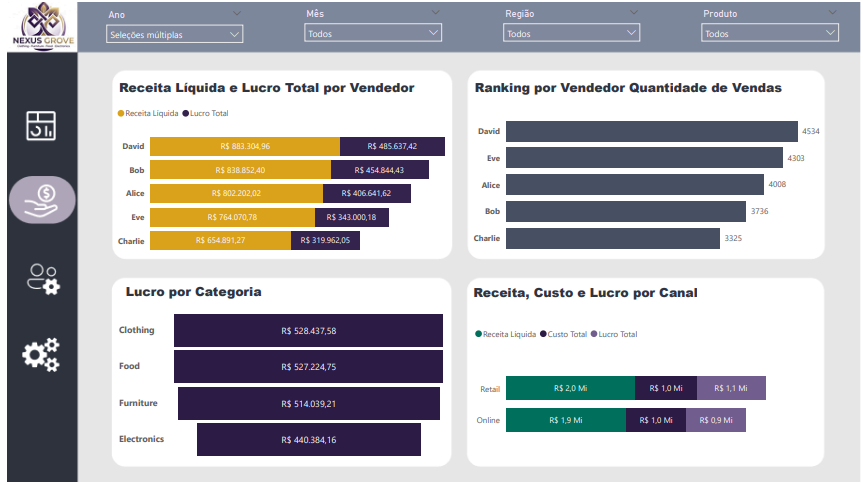

Layout of this report page (visuals, bound fields, positions):
{"tool":"powerbi","page":{"name":"Performance Comercial","canvas":[1280,720],"ordinal":1},"visuals":[{"type":"barChart","fields":{"Category":["vendas.Sales_Rep"],"Y":["Medidas.02 Receita Líquida","Medidas.04 Lucro Total"]},"box":[160,147.1,511.4,244.3],"z":0},{"type":"funnel","fields":{"Category":["vendas.Product_Category"],"Y":["Medidas.04 Lucro Total"]},"box":[162.9,455.7,501.4,234.3],"z":1000},{"type":"barChart","fields":{"Category":["vendas.Sales_Channel"],"Y":["Medidas.02 Receita Líquida","Medidas.03 Custo Total","Medidas.04 Lucro Total"]},"box":[695.7,477.1,531.4,215.7],"z":2000},{"type":"clusteredBarChart","fields":{"Category":["vendas.Sales_Rep"],"Y":["Medidas.06 Quantidade Total"]},"box":[692.9,148.6,531.4,242.9],"z":3000},{"type":"textbox","box":[162.9,108.6,481.4,40],"z":4000},{"type":"textbox","box":[695.7,108.6,481.4,40],"z":5000},{"type":"textbox","box":[172.9,414.3,481.4,40],"z":6000},{"type":"textbox","box":[694.3,415.7,481.4,40],"z":7000},{"type":"actionButton","box":[0,161.7,100,55],"z":8000},{"type":"actionButton","box":[0,375,100,80],"z":9000},{"type":"actionButton","box":[0,490,100,83.3],"z":10000},{"type":"slicer","fields":{"Values":["dCalendario.Ano"]},"box":[138.8,6,225.4,65.7],"z":11000},{"type":"slicer","fields":{"Values":["dCalendario.Nome do Mês"]},"box":[436.3,4.5,225.4,65.7],"z":12000},{"type":"slicer","fields":{"Values":["vendas.Region"]},"box":[733.8,4.5,225.4,65.7],"z":13000},{"type":"slicer","fields":{"Values":["vendas.Product_Category"]},"box":[1031.3,4.5,225.4,65.7],"z":14000}]}

Visuals, with their boxes on the page's 1280x720 design canvas (x1, y1, x2, y2). These are canvas units, not pixel positions in the 863x485 screenshot, which may show the page scaled, cropped or inside an application window:
barChart - vendas.Sales_Rep x Medidas.02 Receita Líquida: 160/147/671/391
funnel - vendas.Product_Category x Medidas.04 Lucro Total: 163/456/664/690
barChart - vendas.Sales_Channel x Medidas.02 Receita Líquida: 696/477/1227/693
clusteredBarChart - vendas.Sales_Rep x Medidas.06 Quantidade Total: 693/149/1224/392
textbox: 163/109/644/149
textbox: 696/109/1177/149
textbox: 173/414/654/454
textbox: 694/416/1176/456
actionButton: 0/162/100/217
actionButton: 0/375/100/455
actionButton: 0/490/100/573
slicer - dCalendario.Ano: 139/6/364/72
slicer - dCalendario.Nome do Mês: 436/4/662/70
slicer - vendas.Region: 734/4/959/70
slicer - vendas.Product_Category: 1031/4/1257/70
